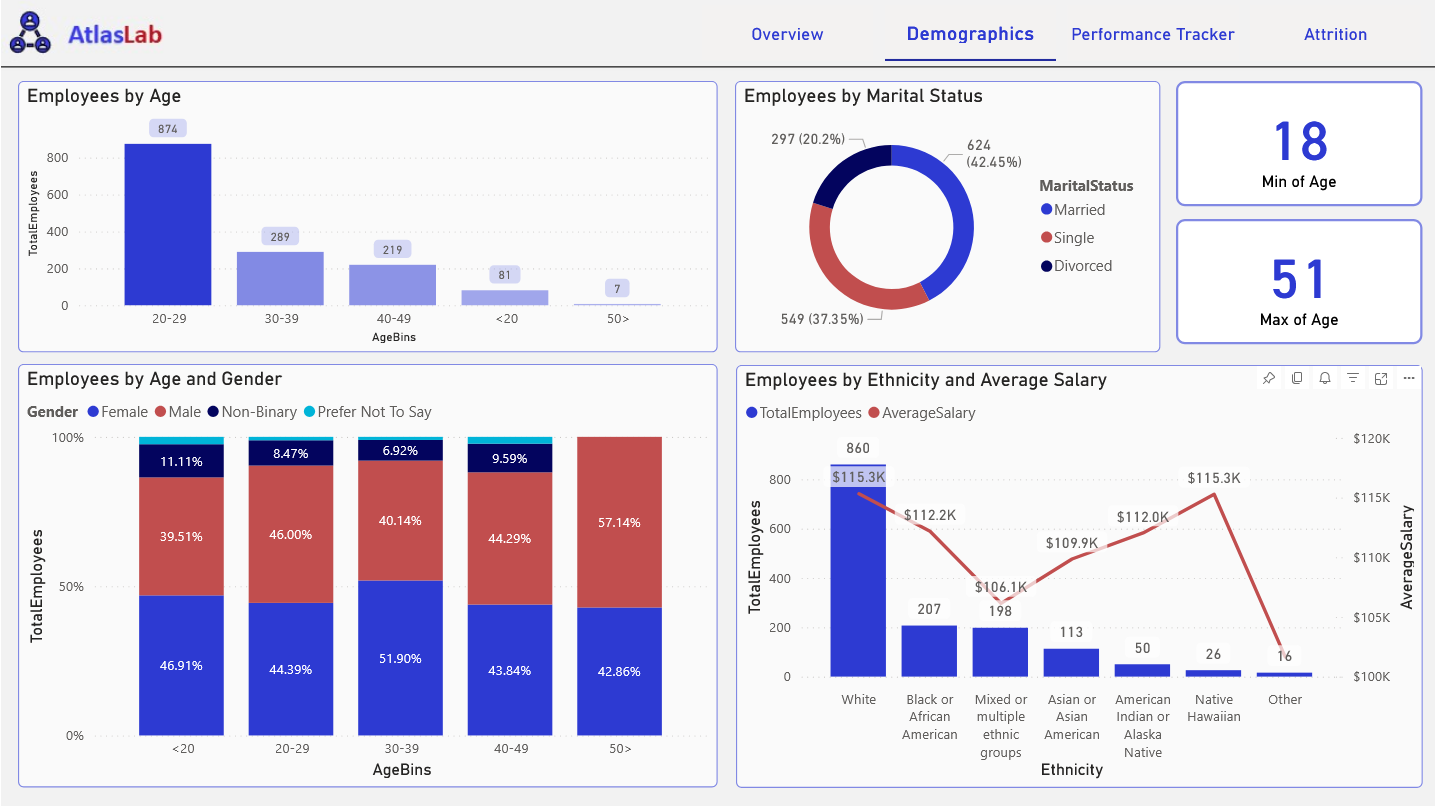

The dashboard page shown, as its layout file describes it:
{"tool":"powerbi","page":{"name":"Demographics","canvas":[1280,720],"ordinal":1},"visuals":[{"type":"card","title":"Youngest Employee","fields":{"Values":["Min(DimEmployee.Age)"]},"box":[1049,71.8,219.9,111.7],"z":0},{"type":"card","title":"Oldest Employee","fields":{"Values":["Max(DimEmployee.Age)"]},"box":[1049,195.1,219.9,111.7],"z":1000},{"type":"columnChart","title":"Employees by Age","fields":{"Category":["DimEmployee.AgeBins"],"Y":["_Measures.TotalEmployees"]},"box":[16,71.8,624.2,242.1],"z":2000},{"type":"hundredPercentStackedColumnChart","title":"Employees by Age and Gender","fields":{"Category":["DimEmployee.AgeBins"],"Series":["DimEmployee.Gender"],"Y":["_Measures.TotalEmployees"]},"box":[16,324.5,624.2,377.7],"z":3000},{"type":"donutChart","title":"Employees by Marital Status","fields":{"Category":["DimEmployee.MaritalStatus"],"Y":["_Measures.TotalEmployees"]},"box":[656.2,71.8,379.5,242.1],"z":4000},{"type":"lineStackedColumnComboChart","title":"Employees by Ethnicity and Average Salary","fields":{"Category":["DimEmployee.Ethnicity"],"Y":["_Measures.TotalEmployees"],"Y2":["_Measures.AverageSalary"]},"box":[656.2,313.9,612.7,377.7],"z":5000},{"type":"pageNavigator","box":[625.9,4,643,50.3],"z":6000}]}

Visuals, with their boxes in screenshot pixels (x1, y1, x2, y2), scaled from the page's 1280x720 canvas onto the 1435x807 screenshot:
"Youngest Employee" card: left=1176, top=80, right=1423, bottom=206
"Oldest Employee" card: left=1176, top=219, right=1423, bottom=344
"Employees by Age" columnChart: left=18, top=80, right=718, bottom=352
"Employees by Age and Gender" hundredPercentStackedColumnChart: left=18, top=364, right=718, bottom=787
"Employees by Marital Status" donutChart: left=736, top=80, right=1161, bottom=352
"Employees by Ethnicity and Average Salary" lineStackedColumnComboChart: left=736, top=352, right=1423, bottom=775
pageNavigator: left=702, top=4, right=1423, bottom=61
